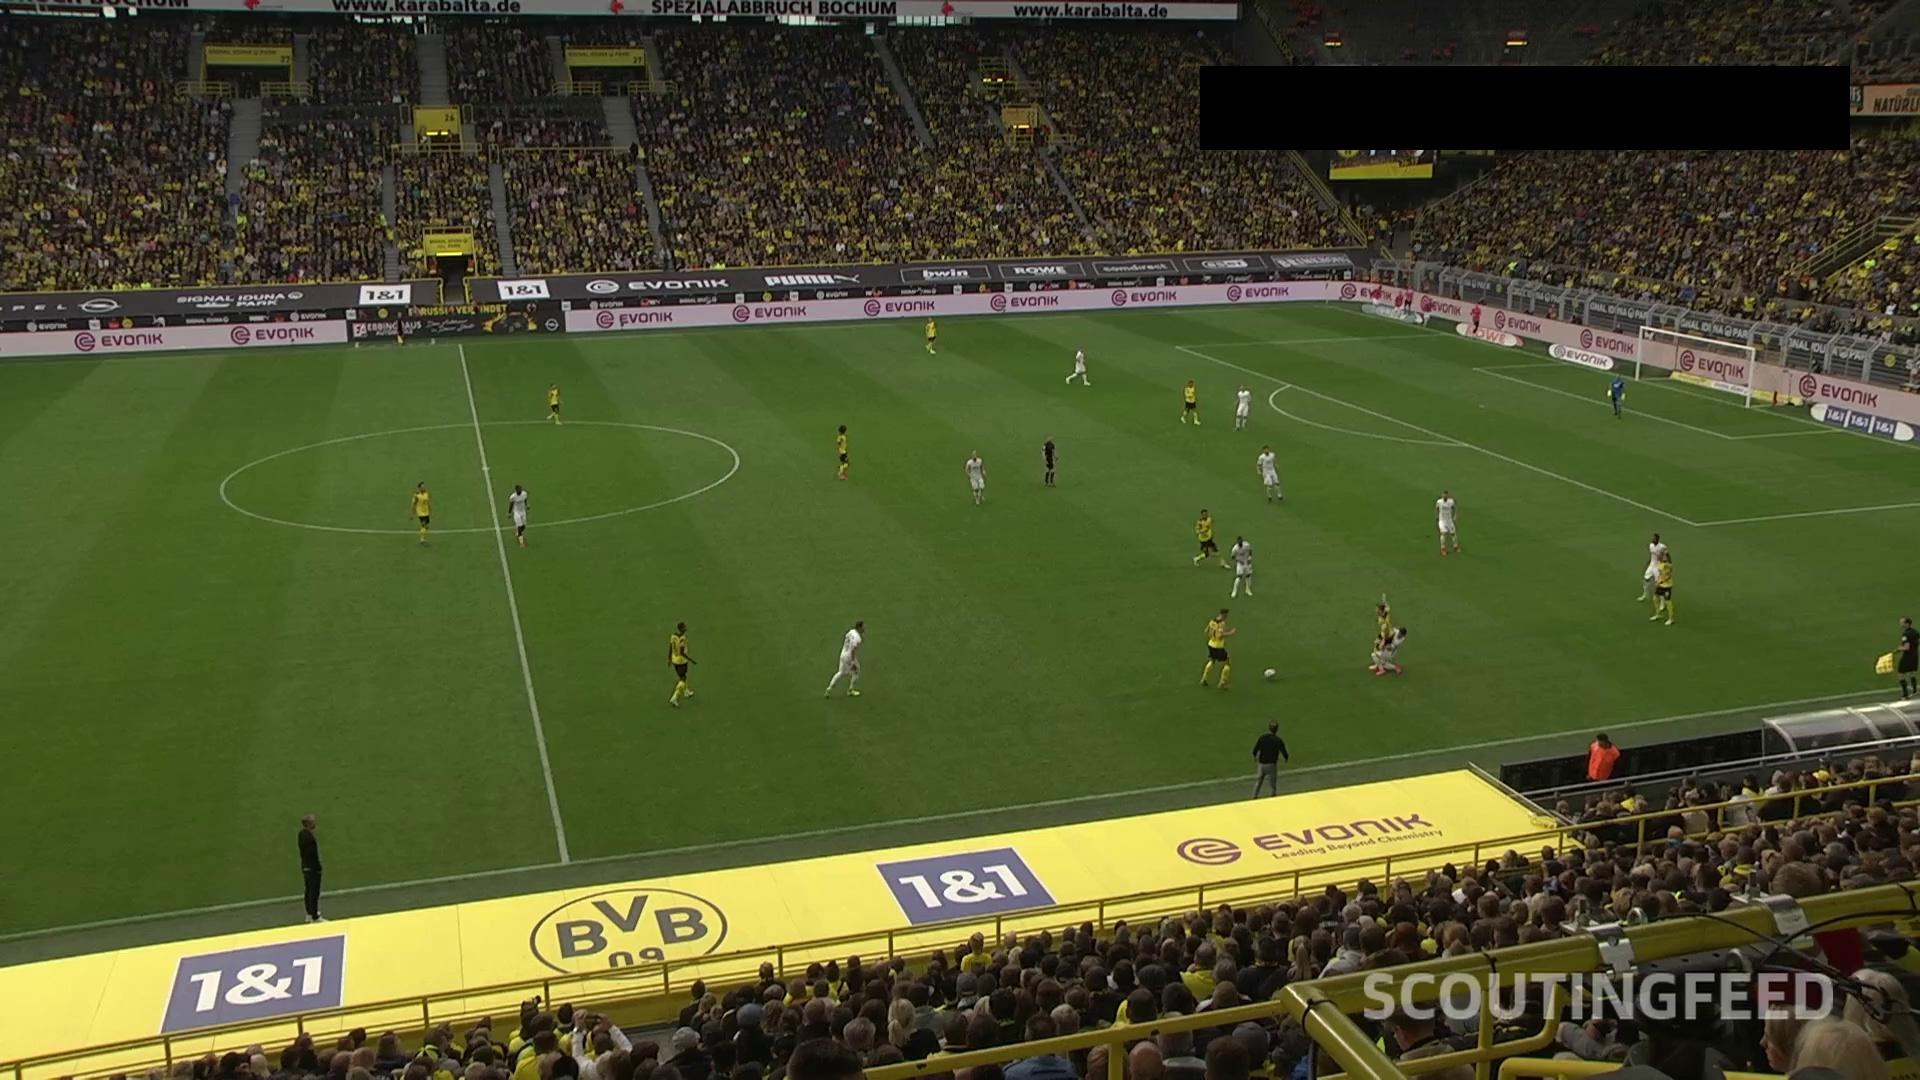Location-of-ball: (1250, 655, 1288, 687)
